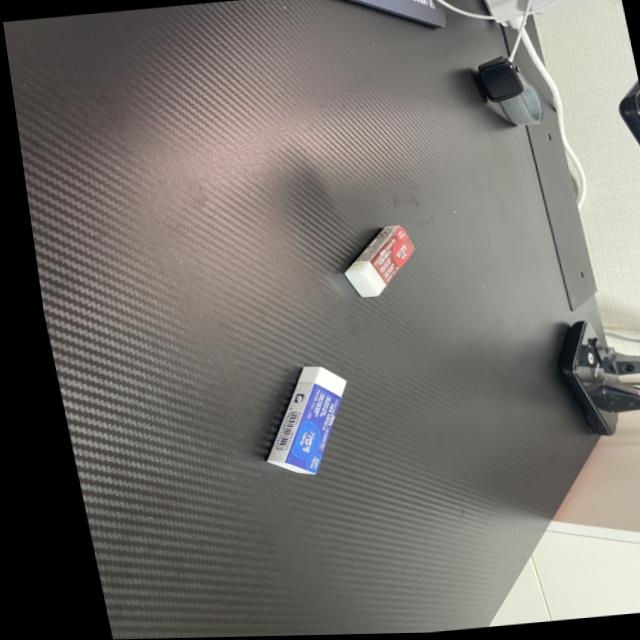blue: (218, 359, 362, 487)
red: (316, 219, 424, 307)
